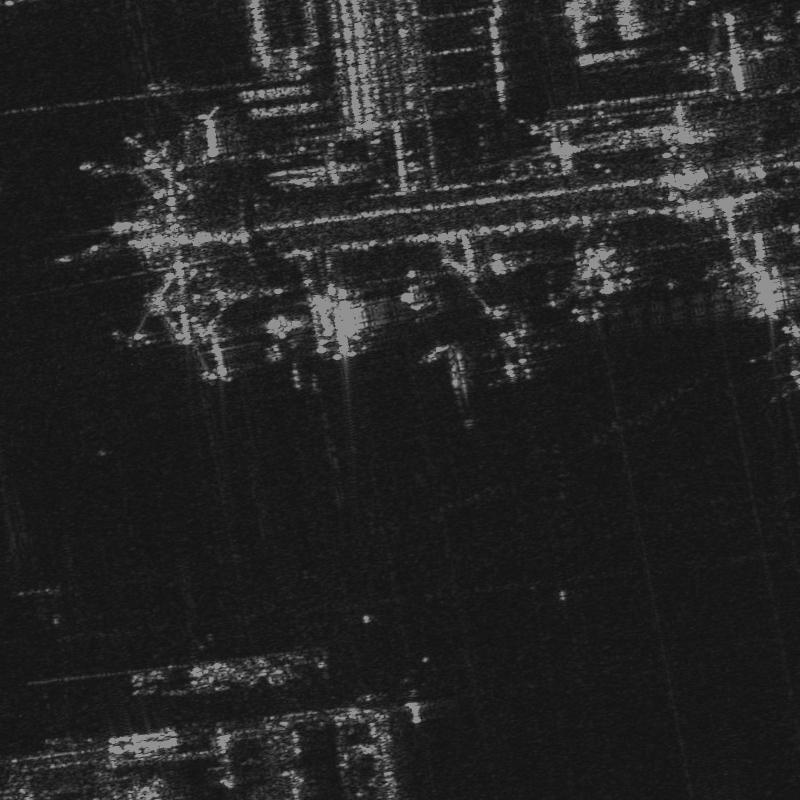Boeing737: (751, 313, 799, 401)
